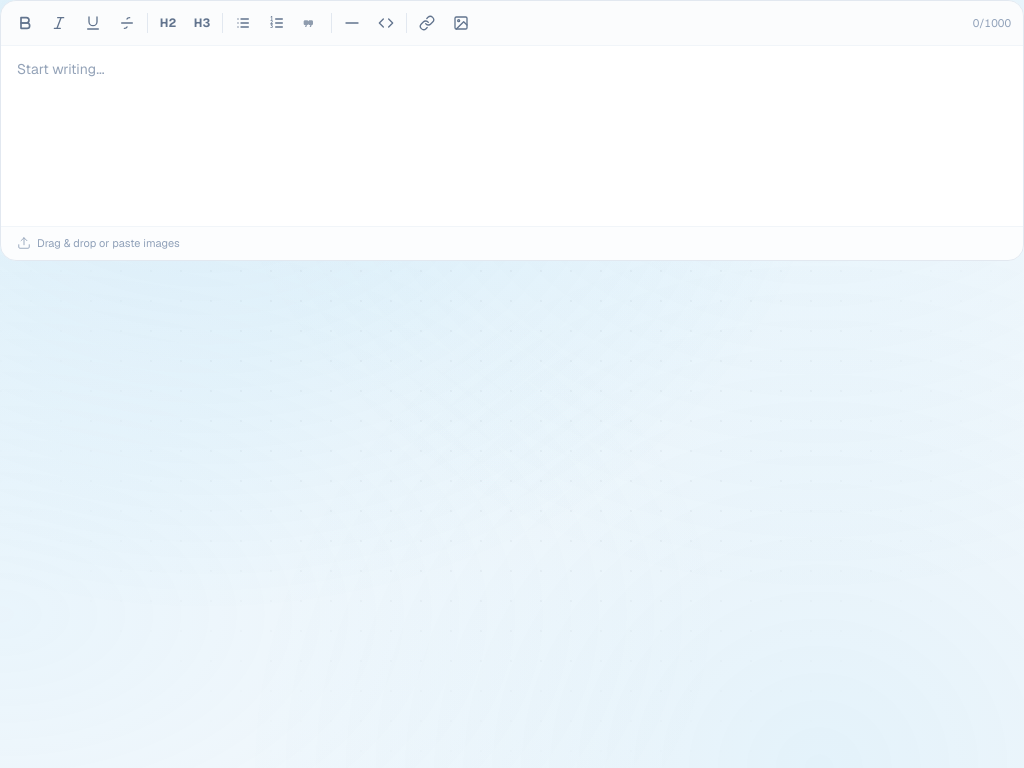
MarkdownComposer › opens link dialog when link button is clicked
The image size is (1024, 768).
Click the button titled "Insert link" at (427, 23), box [411, 7, 443, 39]
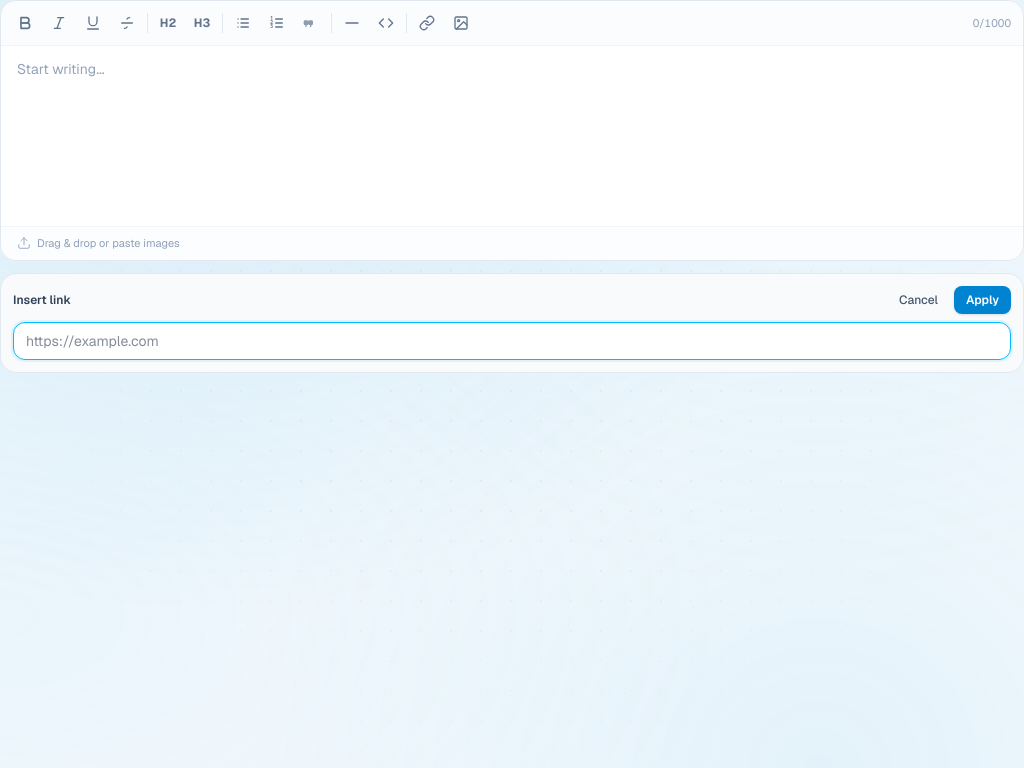
expect the field with placeholder "https://example.com" is shown: met, box [13, 322, 1011, 360]
